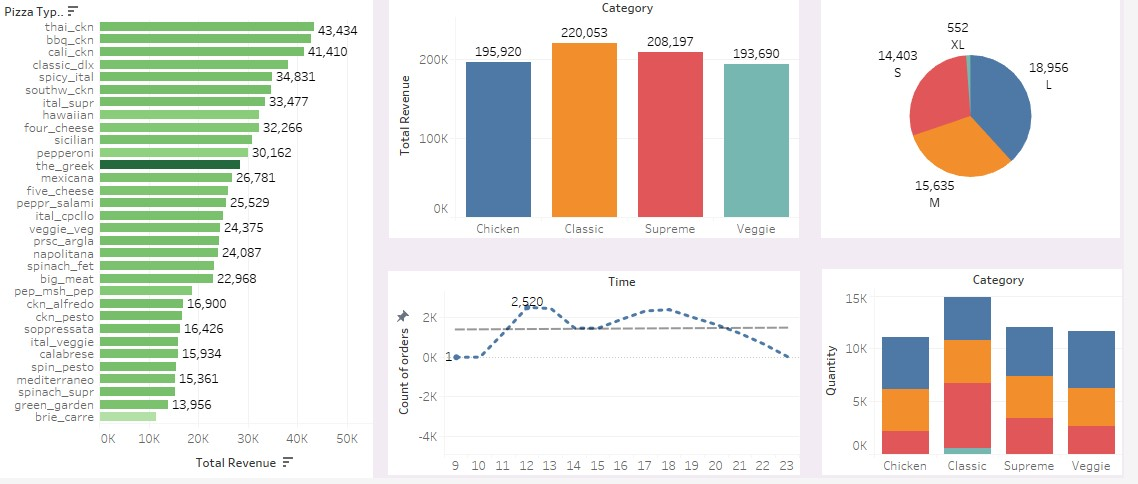

Layout of this report page (visuals, bound fields, positions):
{"tool":"tableau","page":{"name":"Dashboard 1","canvas":[1000,1000],"units":"permille","ordinal":0},"visuals":[{"type":"worksheet","title":"Sheet 6","mark":"Automatic","rows":["Calculation_238127871380070400"],"cols":["category"],"box":[347.4,4,364.1,514.1]},{"type":"worksheet","title":"Sheet 7","mark":"Automatic","rows":["pizza_type_id (pizza!types)"],"cols":["Calculation_238127871380070400"],"box":[0.9,10,332.4,990]},{"type":"worksheet","title":"Sheet 8","mark":"Automatic","rows":["quantity"],"cols":["category"],"box":[731.8,550.2,266.5,443.8]},{"type":"worksheet","title":"Sheet 2","mark":"Automatic","rows":["orders_60357F6259BF4AF887B54B2656A542FD"],"cols":["time"],"box":[346.5,554.2,365.9,439.8]}]}

Visuals, with their boxes on the dashboard's canvas, which has no fixed pixel size, in thousandths of its width and height (x1, y1, x2, y2). These are canvas units, not pixel positions in the 1138x484 screenshot, which may show the page scaled, cropped or inside an application window:
"Sheet 6" worksheet: detection(347, 4, 712, 518)
"Sheet 7" worksheet: detection(1, 10, 333, 1000)
"Sheet 8" worksheet: detection(732, 550, 998, 994)
"Sheet 2" worksheet: detection(346, 554, 712, 994)
